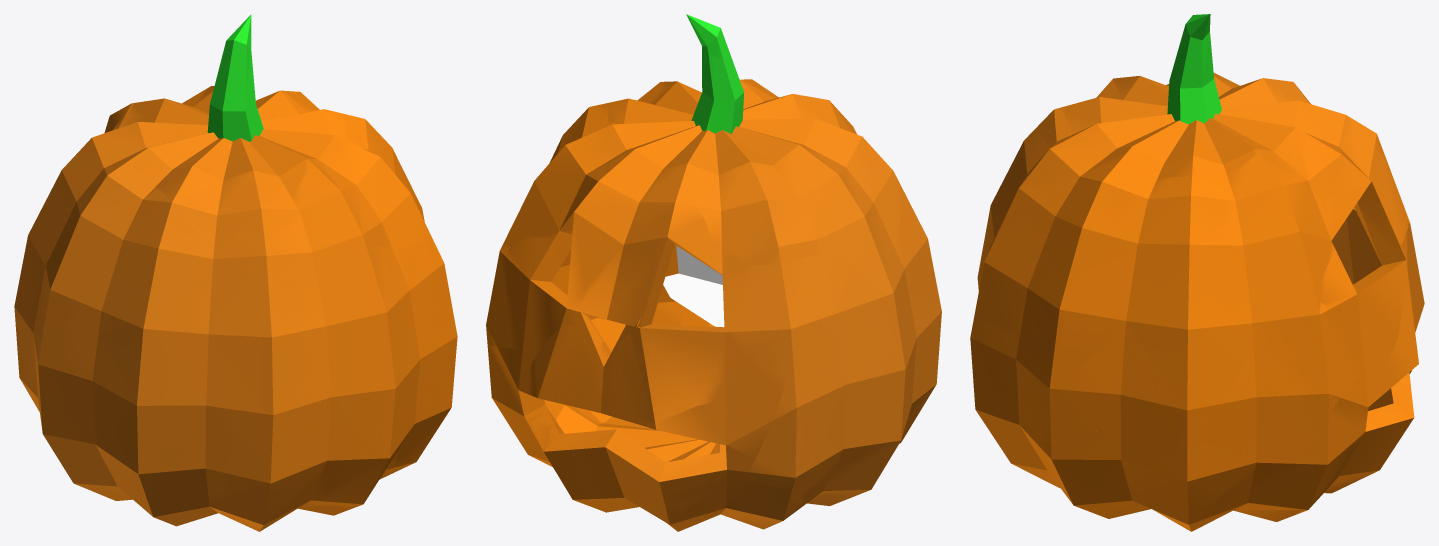
File: Abobora_02_Root.fbx
3 views of the same model, side by side, from view 1: azimuth 30°, elevation 25°; view 2: azimuth 150°, elevation 25°; view 3: azimuth 270°, elevation 25° (orthographic). The views are drawn at different scales.
Parts seen in each view (by area): view 1: Abobora_02_frag_014, Abobora_02_frag_021, Abobora_02_frag_035, Abobora_02_frag_040, Abobora_02_frag_009, Abobora_02_frag_030, Abobora_02_frag_048, Abobora_02_frag_036, Abobora_02_frag_053, Abobora_02_frag_016, Abobora_02_frag_054, Abobora_02_frag_052 (+17 smaller); view 2: Abobora_02_frag_026, Abobora_02_frag_052, Abobora_02_frag_049, Abobora_02_frag_040, Abobora_02_frag_064, Abobora_02_frag_006, Abobora_02_frag_041, Abobora_02_frag_076, Abobora_02_frag_004, Abobora_02_frag_031, Abobora_02_frag_009, Abobora_02_frag_050 (+31 smaller); view 3: Abobora_02_frag_033, Abobora_02_frag_047, Abobora_02_frag_016, Abobora_02_frag_043, Abobora_02_frag_015, Abobora_02_frag_039, Abobora_02_frag_060, Abobora_02_frag_054, Abobora_02_frag_055, Abobora_02_frag_023, Abobora_02_frag_031, Abobora_02_frag_063 (+24 smaller).
Boxes of the visible parts, box(x1,y1,x2,y2) form: Abobora_02_frag_014: box(51, 322, 237, 452); Abobora_02_frag_021: box(191, 233, 317, 427); Abobora_02_frag_035: box(237, 340, 403, 477); Abobora_02_frag_040: box(48, 172, 207, 313); Abobora_02_frag_009: box(144, 135, 308, 248); Abobora_02_frag_030: box(248, 221, 372, 361); Abobora_02_frag_048: box(70, 407, 221, 526); Abobora_02_frag_036: box(52, 245, 215, 338); Abobora_02_frag_053: box(197, 430, 333, 531); Abobora_02_frag_016: box(307, 144, 432, 248); Abobora_02_frag_054: box(369, 245, 443, 365); Abobora_02_frag_052: box(54, 115, 175, 221); Abobora_02_frag_026: box(735, 251, 903, 375); Abobora_02_frag_052: box(696, 140, 843, 264); Abobora_02_frag_049: box(615, 327, 734, 422); Abobora_02_frag_040: box(820, 136, 903, 311); Abobora_02_frag_064: box(566, 208, 690, 345); Abobora_02_frag_006: box(745, 373, 856, 490); Abobora_02_frag_041: box(799, 340, 909, 494); Abobora_02_frag_076: box(585, 133, 703, 217); Abobora_02_frag_004: box(713, 352, 787, 475); Abobora_02_frag_031: box(506, 235, 567, 369); Abobora_02_frag_009: box(739, 81, 861, 157); Abobora_02_frag_050: box(630, 402, 742, 497); Abobora_02_frag_033: box(1072, 290, 1257, 460); Abobora_02_frag_047: box(1204, 153, 1335, 337); Abobora_02_frag_016: box(1019, 127, 1133, 280); Abobora_02_frag_043: box(1179, 345, 1323, 494); Abobora_02_frag_015: box(1116, 176, 1226, 291); Abobora_02_frag_039: box(1064, 426, 1225, 531); Abobora_02_frag_060: box(979, 322, 1080, 443); Abobora_02_frag_054: box(975, 206, 1052, 342); Abobora_02_frag_055: box(1256, 301, 1362, 415); Abobora_02_frag_023: box(1060, 258, 1161, 377); Abobora_02_frag_031: box(1320, 249, 1407, 367); Abobora_02_frag_063: box(1221, 437, 1357, 521).
Bounding box in the file's own units: 24.68 × 27.55 × 24.17.
